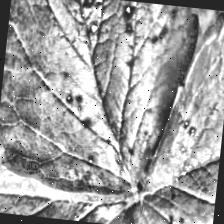Leaf Spot: (0, 0, 201, 206), (130, 4, 224, 224), (0, 88, 148, 224)
